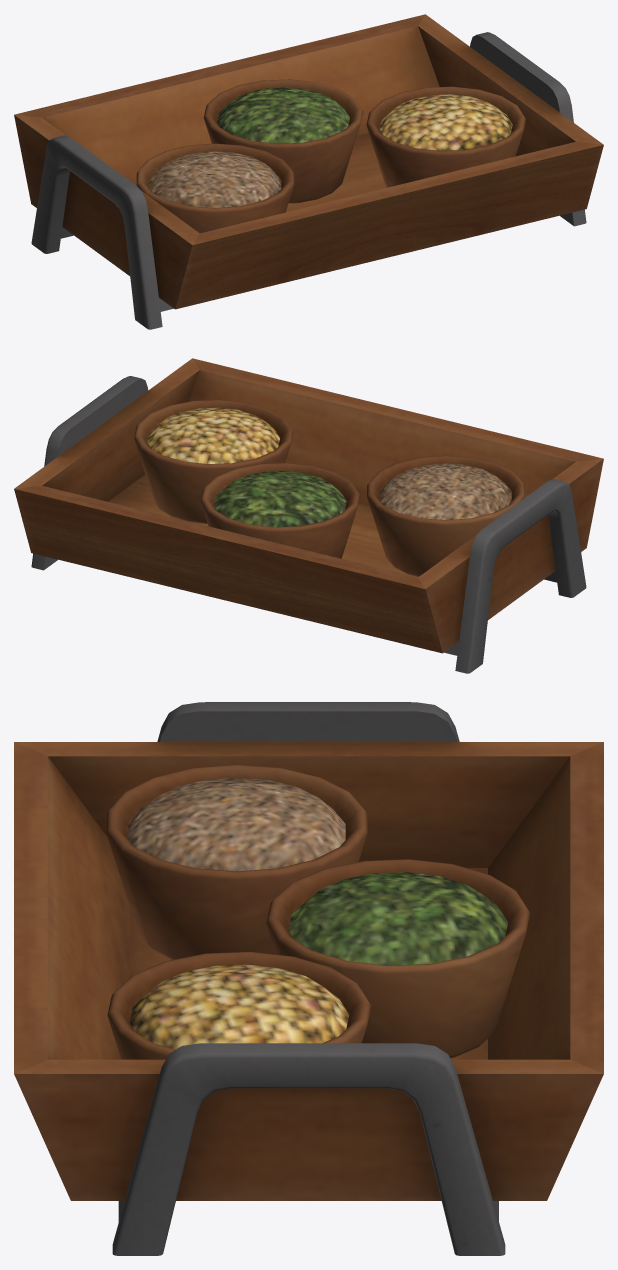
Rendered from GardenTableWear01_3.FBX.
The picture shows the model from 3 angles, top to bottom: view 1: azimuth 30°, elevation 25°; view 2: azimuth 150°, elevation 25°; view 3: azimuth 270°, elevation 25°; orthographic projection. The views are drawn at different scales.
Visible parts, largest first — view 1: GardenTableWear01_3; view 2: GardenTableWear01_3; view 3: GardenTableWear01_3.
Boxes of the visible parts, bbox=[...] form: GardenTableWear01_3: bbox=[14, 14, 603, 329]; GardenTableWear01_3: bbox=[14, 358, 603, 673]; GardenTableWear01_3: bbox=[14, 702, 603, 1255].
Size of what is drawn, in the model's own units: 0.2726 by 0.0724 by 0.192.
